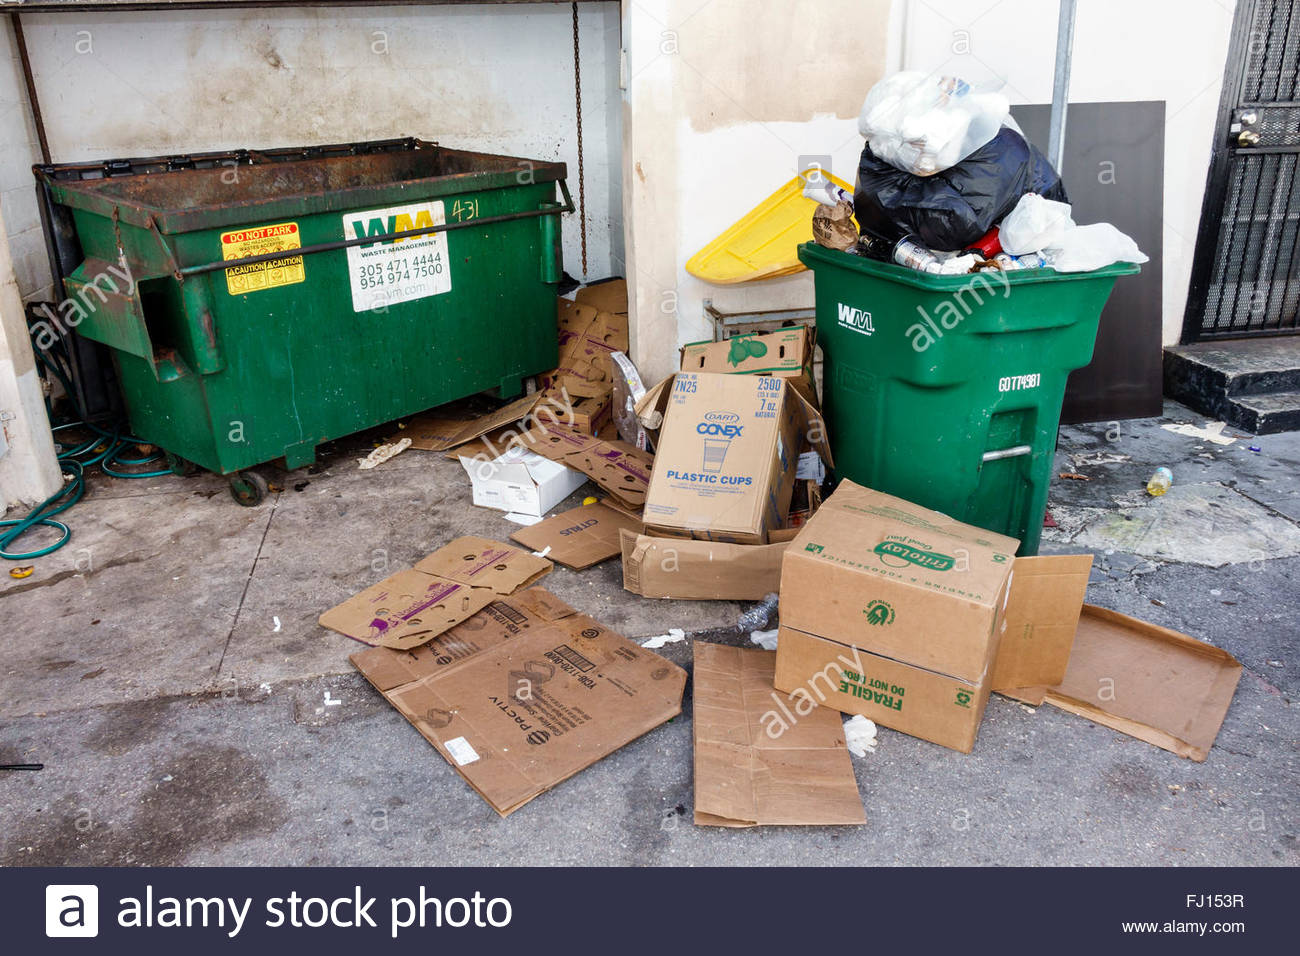Dumpster: (26, 133, 581, 512)
